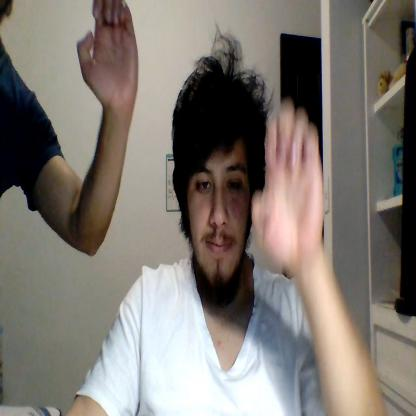E: (76, 0, 139, 109)
